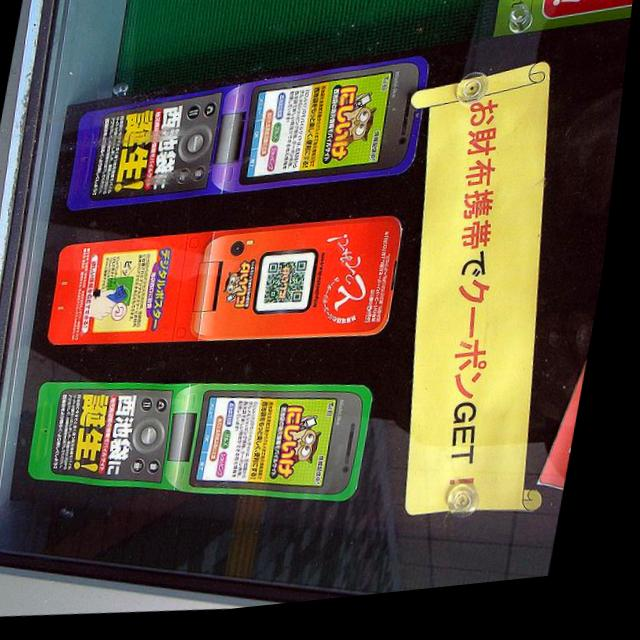qrcode: (271, 266, 315, 312)
